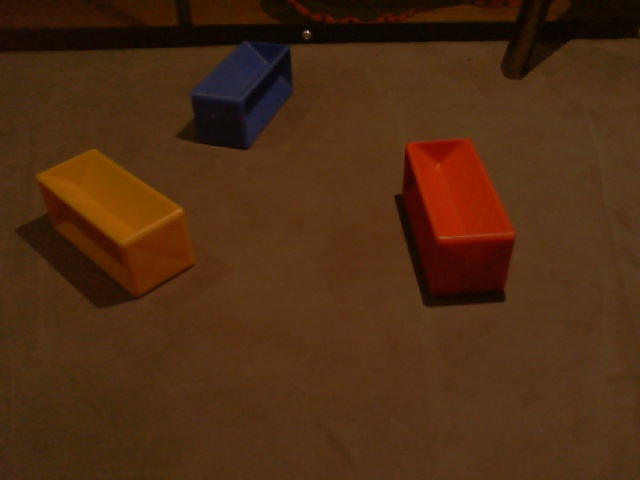BlueSample: (188, 42, 296, 152)
RedSample: (400, 136, 519, 302)
YellowSample: (33, 147, 198, 301)
